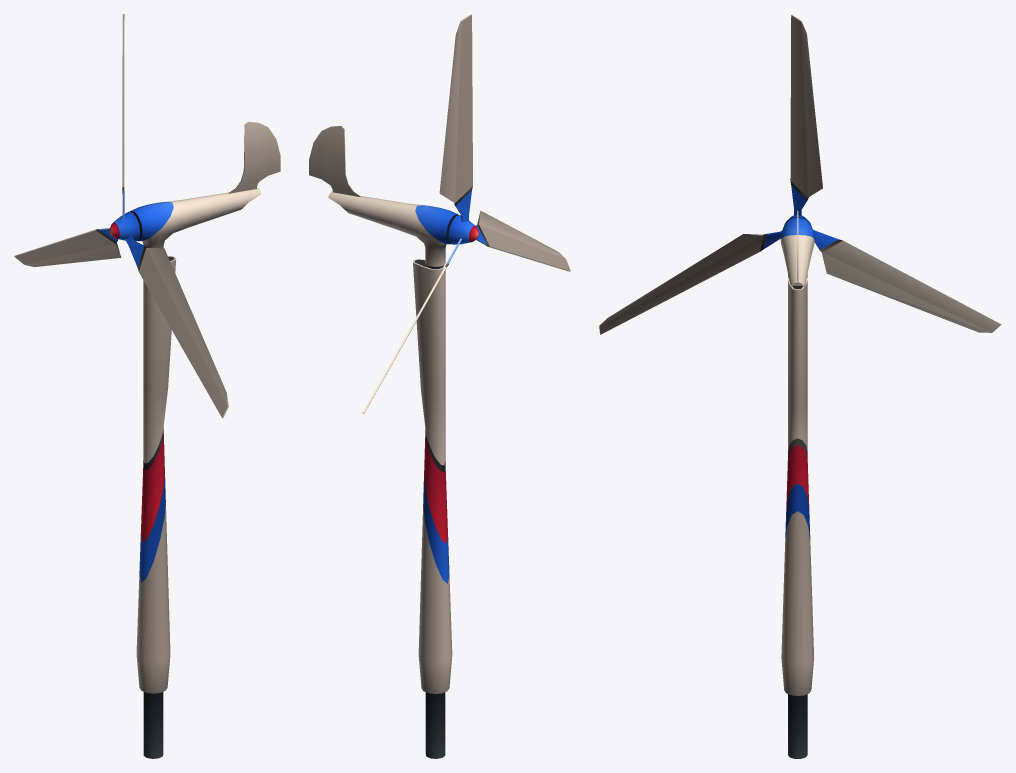
File: Wind_Turbine_1A.fbx
The picture shows the model from 3 angles, left to right: view 1: azimuth 30°, elevation 25°; view 2: azimuth 150°, elevation 25°; view 3: azimuth 270°, elevation 25°; orthographic projection. The views are drawn at different scales.
Visible parts, largest first — view 1: Wind_Turbine_1A, Wind_Turbine_1A_Propeller; view 2: Wind_Turbine_1A, Wind_Turbine_1A_Propeller; view 3: Wind_Turbine_1A_Propeller, Wind_Turbine_1A.
Boxes of the visible parts, box(x1,y1,x2,y2) form: Wind_Turbine_1A: box(130, 121, 280, 758); Wind_Turbine_1A_Propeller: box(14, 14, 228, 418); Wind_Turbine_1A: box(309, 125, 458, 758); Wind_Turbine_1A_Propeller: box(362, 14, 570, 413); Wind_Turbine_1A_Propeller: box(599, 14, 1001, 334); Wind_Turbine_1A: box(780, 210, 814, 758).
Size of the model in its own units: 1064 by 4485 by 2257.
